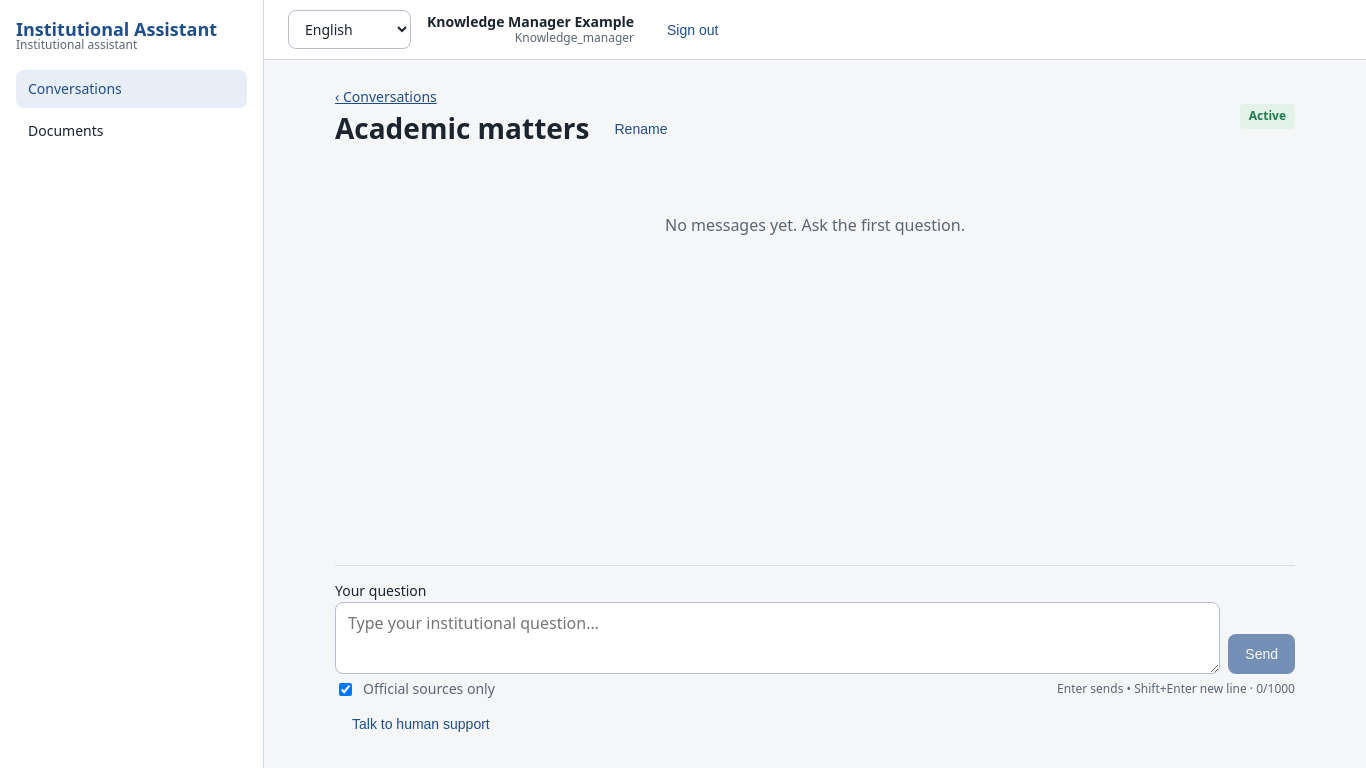
it: human handoff action › shows the persisted assistant message after a successful handoff
This screenshot has width=1366, height=768.
Click the button "Talk to human support" at (421, 724), box [335,704,507,744]
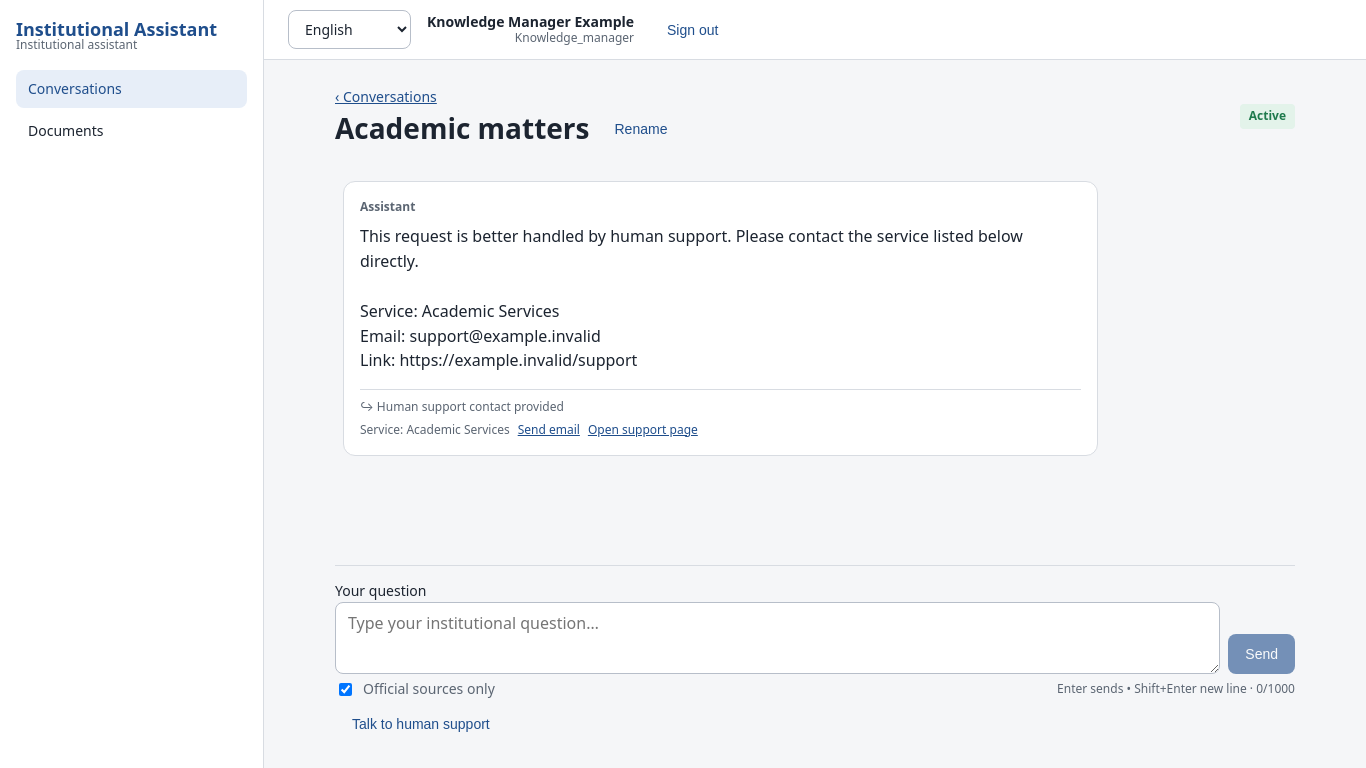
Expected: the text "This request is better handled by human support" is shown, [360,225,1027,371]
Expected: the text "↪ Human support contact provided" is shown, [360,398,564,415]
